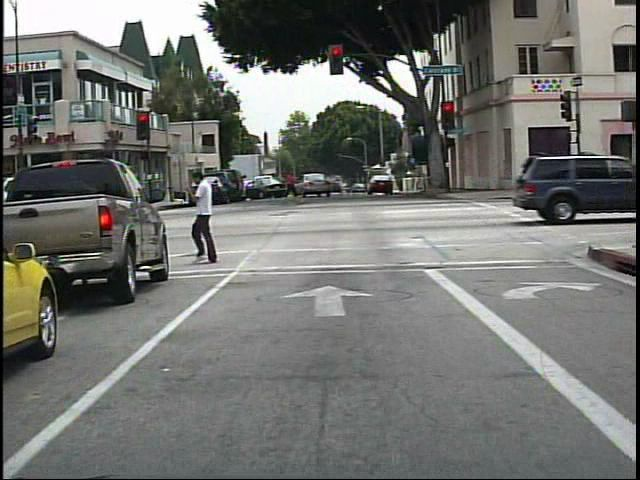person: (182, 168, 234, 266), (282, 163, 303, 207)
